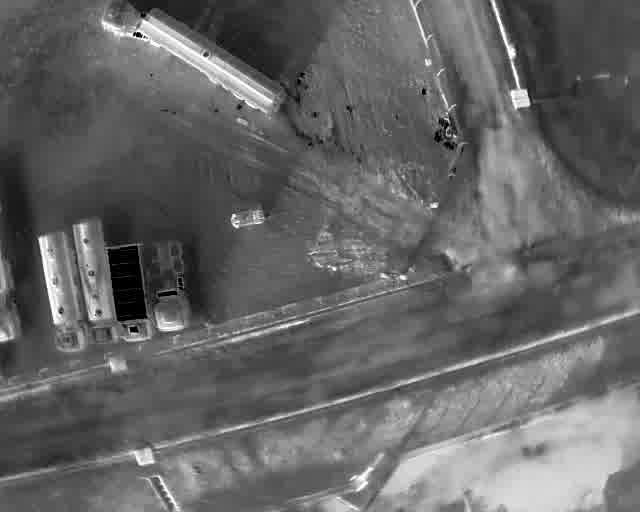truck: (100, 0, 287, 118), (69, 214, 120, 345), (37, 228, 88, 354), (101, 242, 154, 339), (148, 239, 191, 332)
